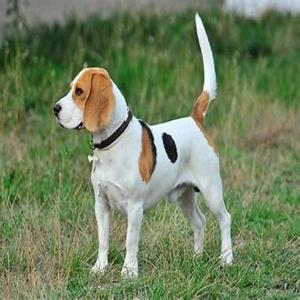dog: (53, 56, 237, 274)
